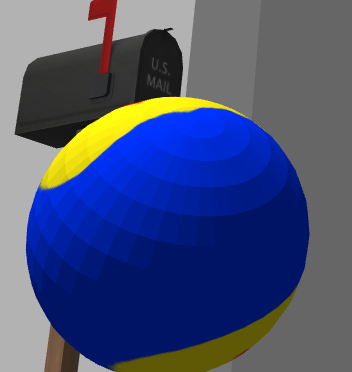toy story ball: (26, 97, 310, 371)
